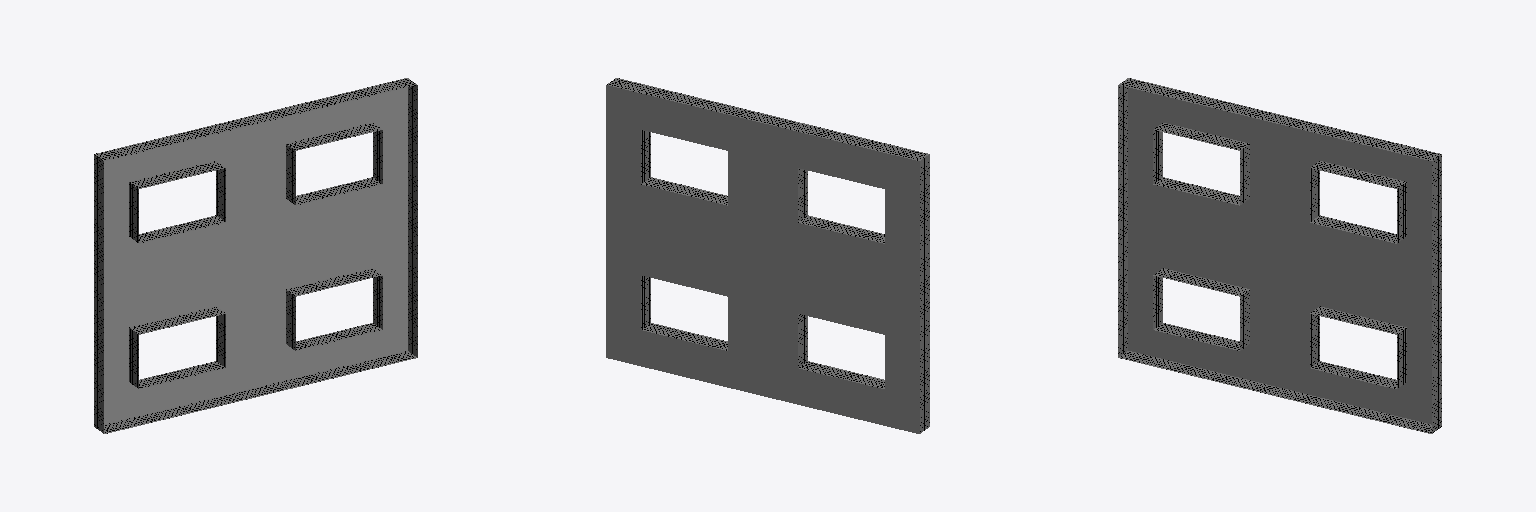
The picture shows the model from 3 angles: view 1: azimuth 30°, elevation 25°; view 2: azimuth 150°, elevation 25°; view 3: azimuth 330°, elevation 25°; orthographic projection.
Bounding box in the file's own units: 18 × 15 × 1.
3 materials, 1 textured.